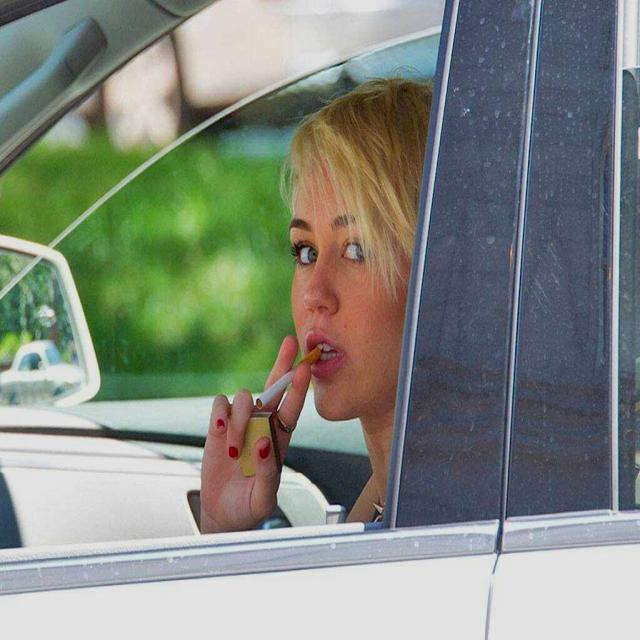Smooking: (250, 340, 329, 414)
